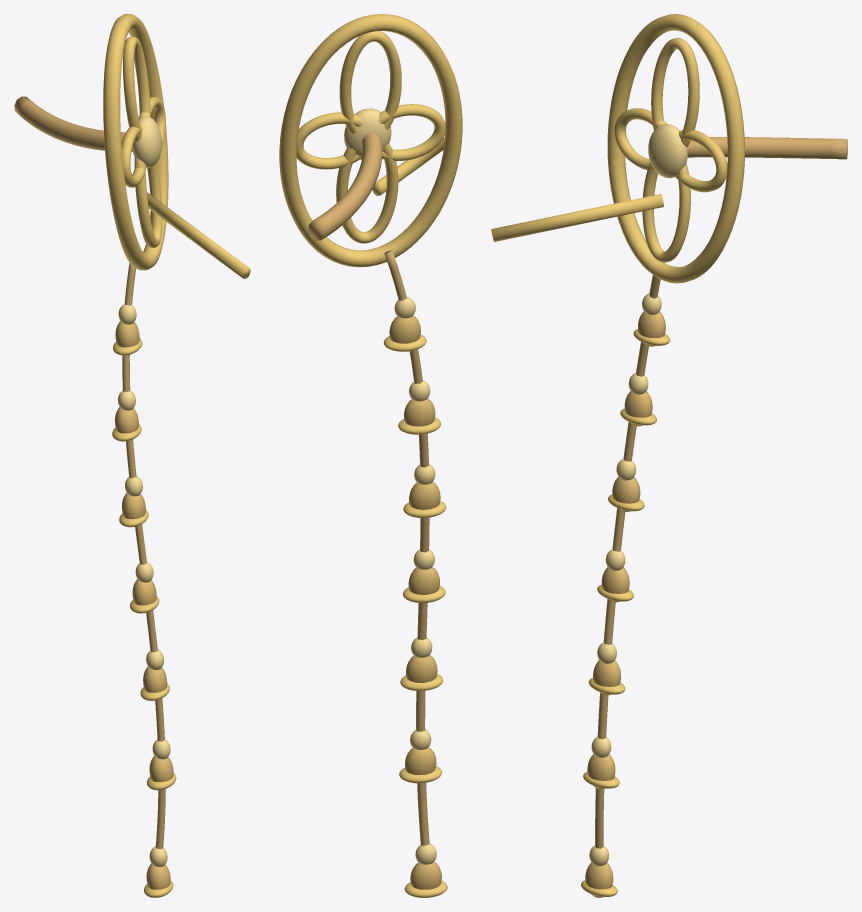
File: side_h_jadeseller_gold_lotus_and_drops.glb
3 renders of one model, left to right at view 1: azimuth 30°, elevation 25°; view 2: azimuth 150°, elevation 25°; view 3: azimuth 270°, elevation 25°, orthographic. The views are drawn at different scales.
Visible parts, largest first — view 1: filigree, drops, beading, cord, anchor; view 2: filigree, drops, beading, cord, anchor; view 3: filigree, drops, beading, anchor, cord.
Boxes of the visible parts, x1,y1,x2,y2 form: filigree: (103,14,250,897); drops: (114,321,173,897); beading: (118,116,170,866); cord: (122,262,165,849); anchor: (14,96,132,151); filigree: (279,14,462,897); drops: (389,315,441,889); beading: (344,108,436,864); cord: (384,250,429,845); anchor: (308,132,382,240); filigree: (491,14,744,896); drops: (585,311,665,897); beading: (589,124,687,866); anchor: (687,137,847,159); cord: (595,275,660,848).
Bounding box in the file's own units: 1.5 × 10.77 × 3.94.
